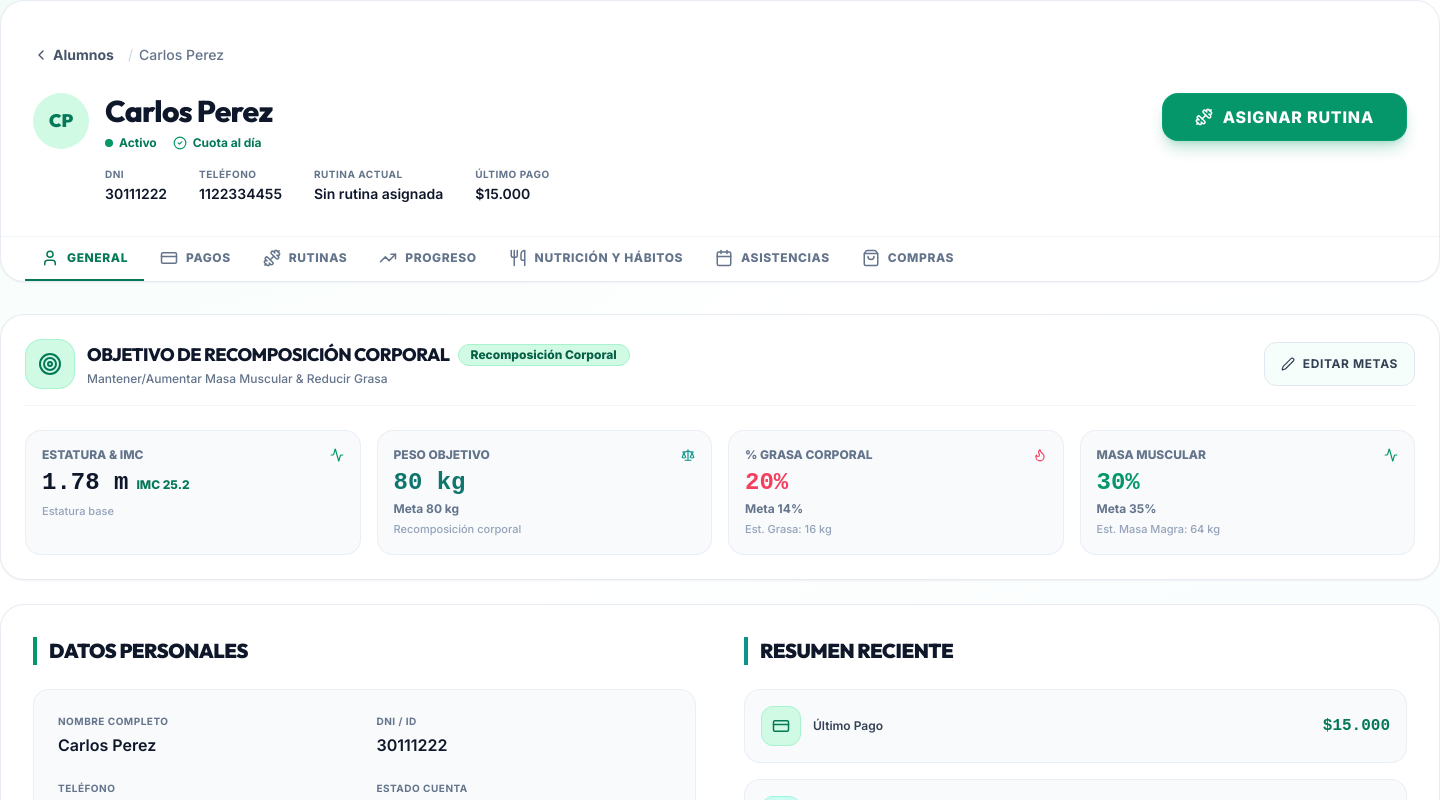
Test: ClientDetailPage - montos en formato argentino (spec 0009) › AC-0009-12: la pestaña Pagos muestra $15.000, y Compras $25.000 de precio y $50.000 de subtotal
This screenshot has width=1440, height=800.
expect the heading "Carlos Perez" is shown: met, box [105,92,272,130]
Click the tab "Pagos" at x=195, y=259, box [144,237,247,281]
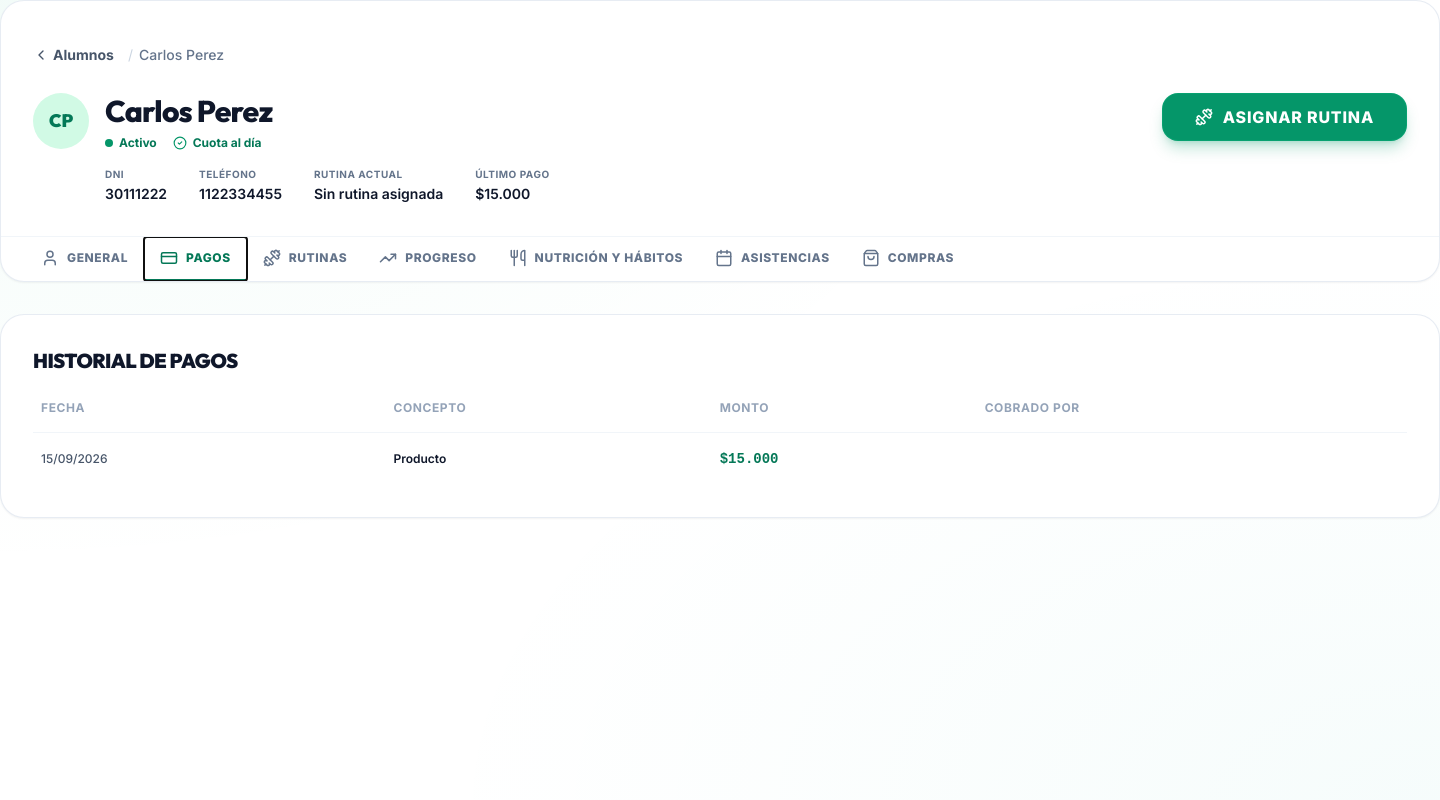
expect the text "15/09/2026" shows "$15.000": met, box [720,451,778,467]
Click the tab "Compras" at x=908, y=259, box [846,237,970,281]
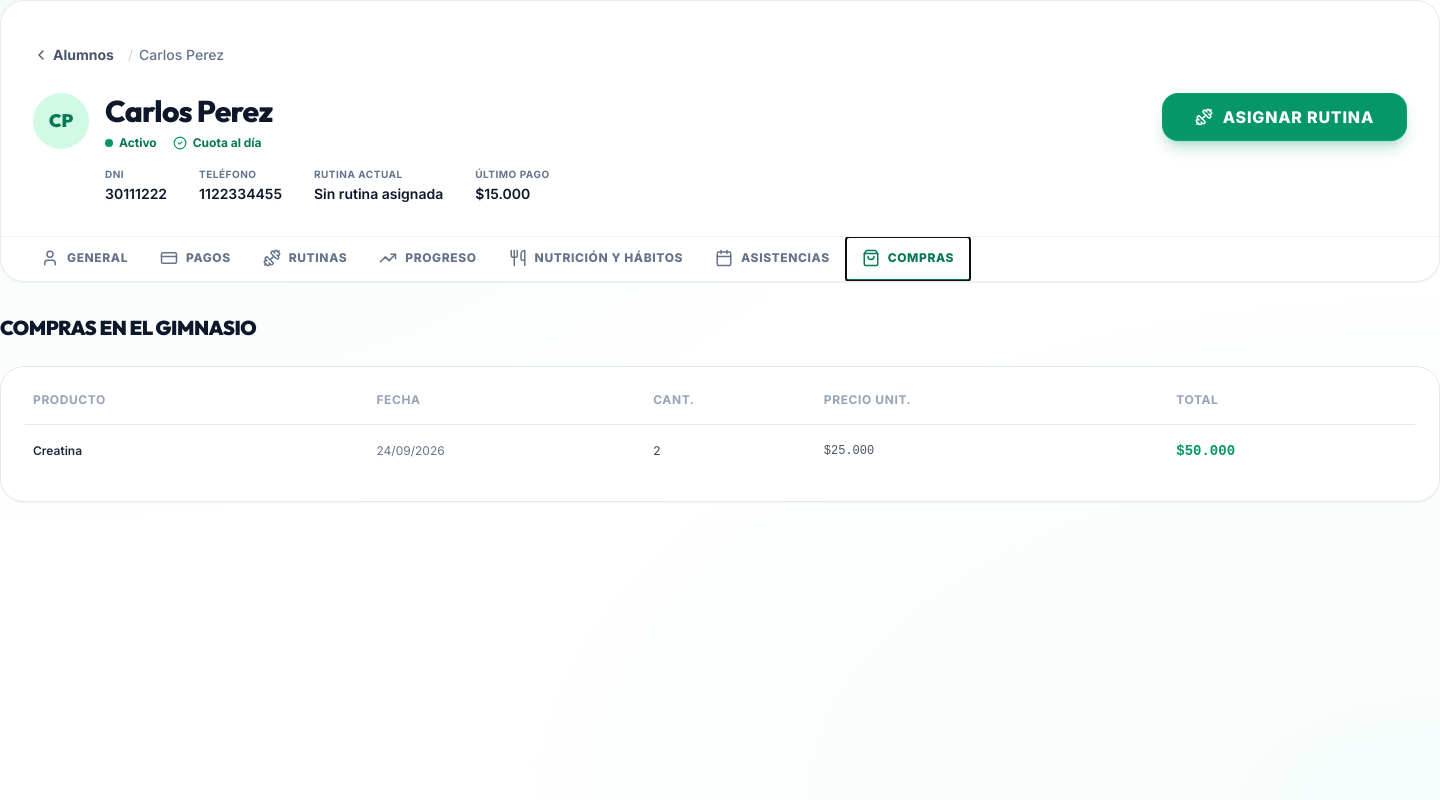
expect the text "Creatina" shows "$25.000": met, box [824,444,874,458]
expect the text "Creatina" shows "$50.000": met, box [1176,443,1235,459]
